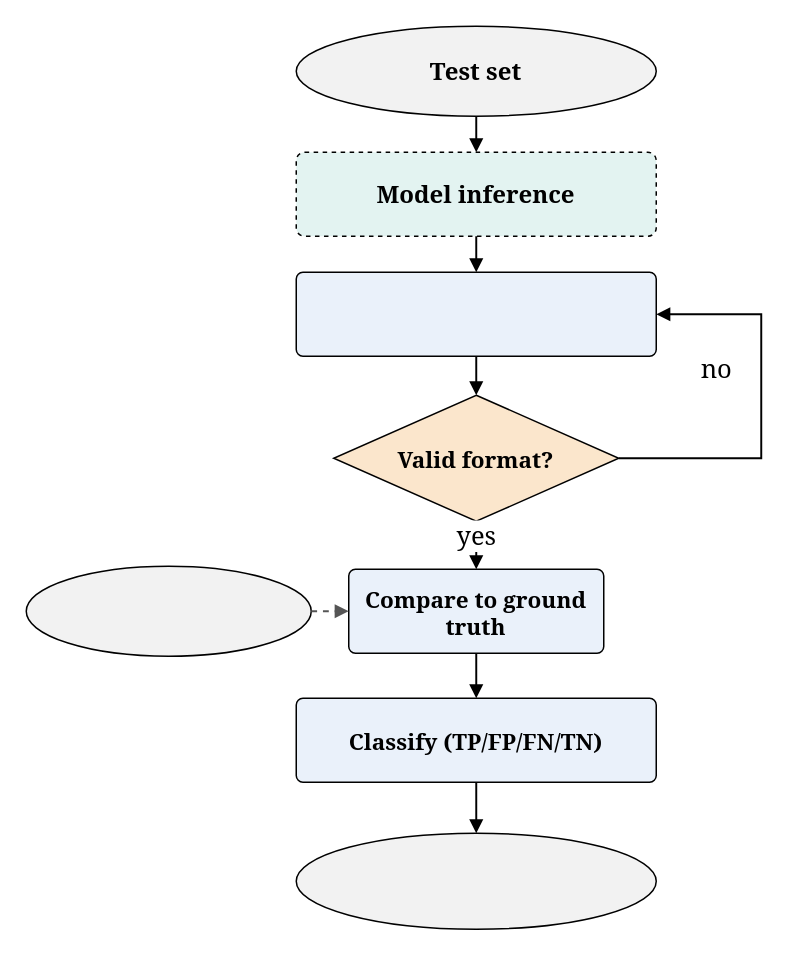
Some shapes in this 801 by 956 pixel diagram are drawn without their labels. Here are the shapes that lost their labels. From the top down, the centre of each, then its label:
(475,313): Output parser (<final>)
(168,610): Ground-truth labels
(475,880): Compute metrics
